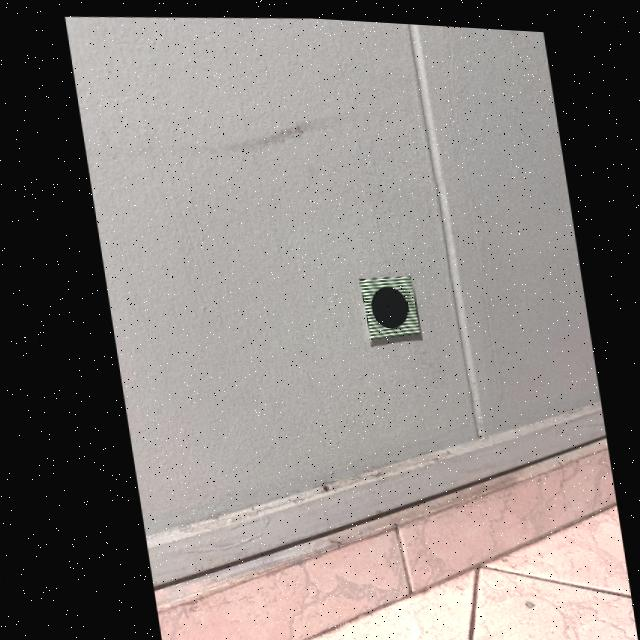G: (366, 282, 402, 324)
